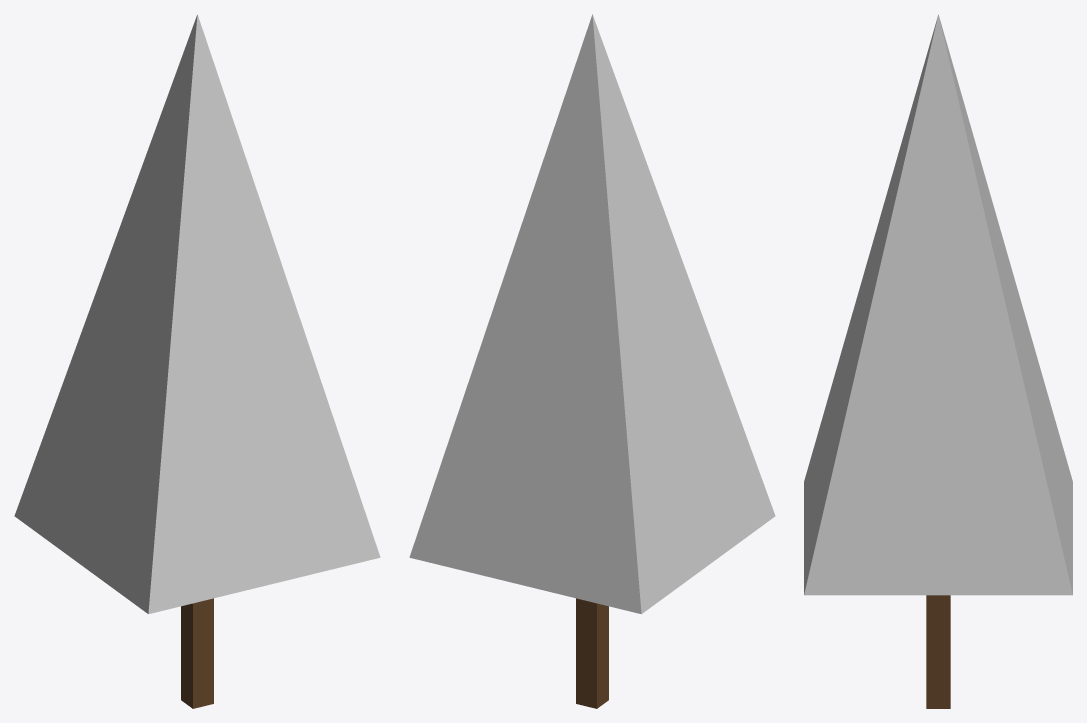
The model's file is tree15.fbx.
3 views of the same model, side by side, from view 1: azimuth 30°, elevation 25°; view 2: azimuth 150°, elevation 25°; view 3: azimuth 270°, elevation 25° (orthographic).
Parts seen in each view (by area): view 1: Cube.016; view 2: Cube.016; view 3: Cube.016.
Boxes of the visible parts, x1,y1,x2,y2 form: Cube.016: (14,14,380,708); Cube.016: (409,14,775,708); Cube.016: (804,14,1072,708).
Bounding box in the file's own units: 166 × 470 × 166.
